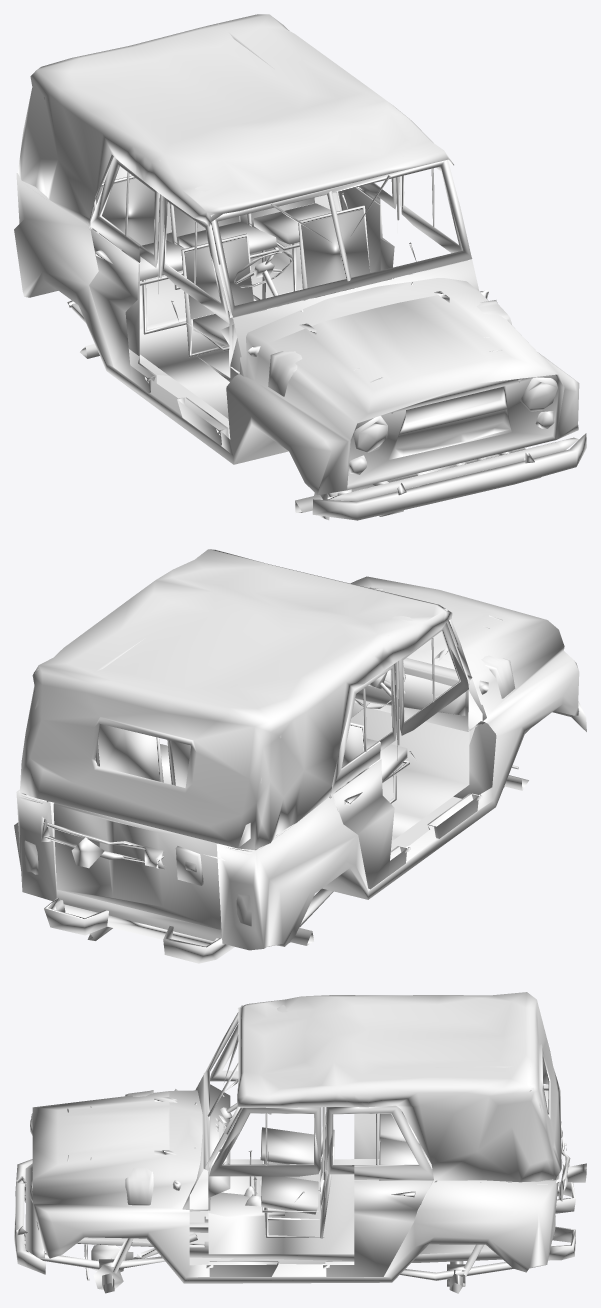
The picture shows the model from 3 angles, top to bottom: view 1: azimuth 30°, elevation 25°; view 2: azimuth 150°, elevation 25°; view 3: azimuth 270°, elevation 25°; orthographic projection. The views are drawn at different scales.
Bounding box in the file's own units: 1.76 × 1.68 × 3.91.
Materials: 1 (1 with a texture image).
